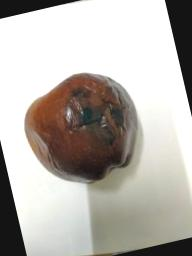Apple Rotten: (14, 62, 150, 192)
